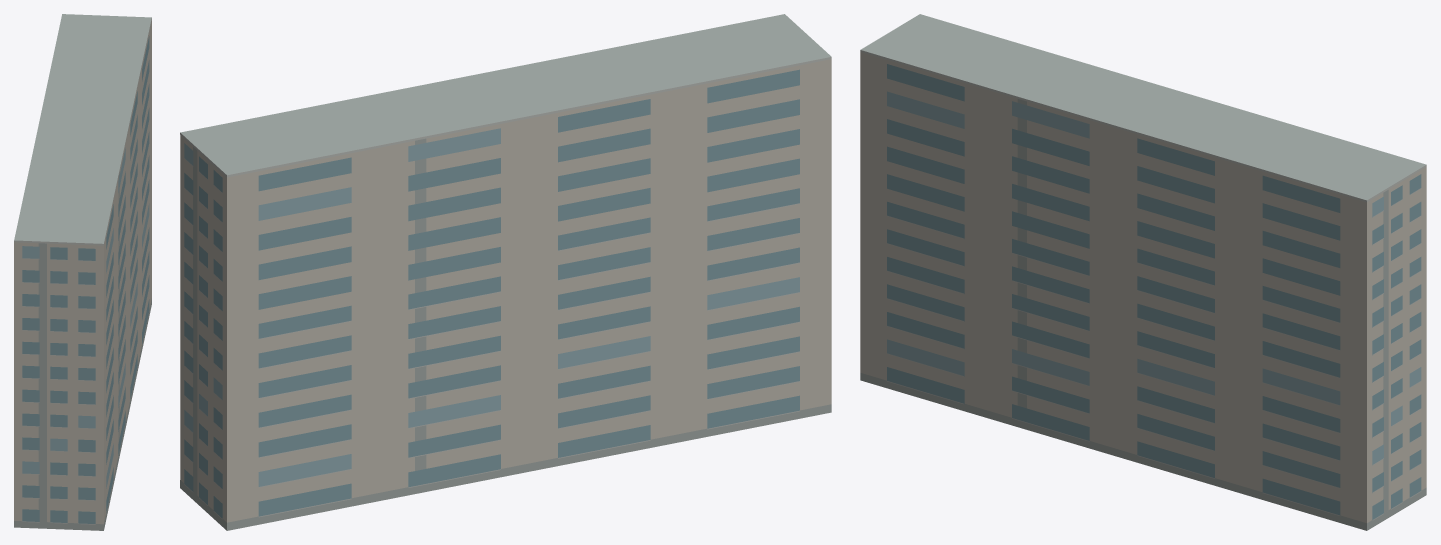
The model's file is residential-43b05e86-cb68-4ffe-8478-7d41cf162c50.glb.
3 views of the same model, side by side, from view 1: azimuth 30°, elevation 25°; view 2: azimuth 150°, elevation 25°; view 3: azimuth 270°, elevation 25° (orthographic). The views are drawn at different scales.
Parts seen in each view (by area): view 1: residential-43b05e86-cb68-4ffe-8478-7d41cf162c50.tmp; view 2: residential-43b05e86-cb68-4ffe-8478-7d41cf162c50.tmp; view 3: residential-43b05e86-cb68-4ffe-8478-7d41cf162c50.tmp.
Boxes of the visible parts, box(x1,y1,x2,y2) form: residential-43b05e86-cb68-4ffe-8478-7d41cf162c50.tmp: box(14, 14, 151, 530); residential-43b05e86-cb68-4ffe-8478-7d41cf162c50.tmp: box(180, 14, 831, 530); residential-43b05e86-cb68-4ffe-8478-7d41cf162c50.tmp: box(860, 14, 1426, 530).
Size of the model in its own units: 45.98 by 38 by 59.02.
